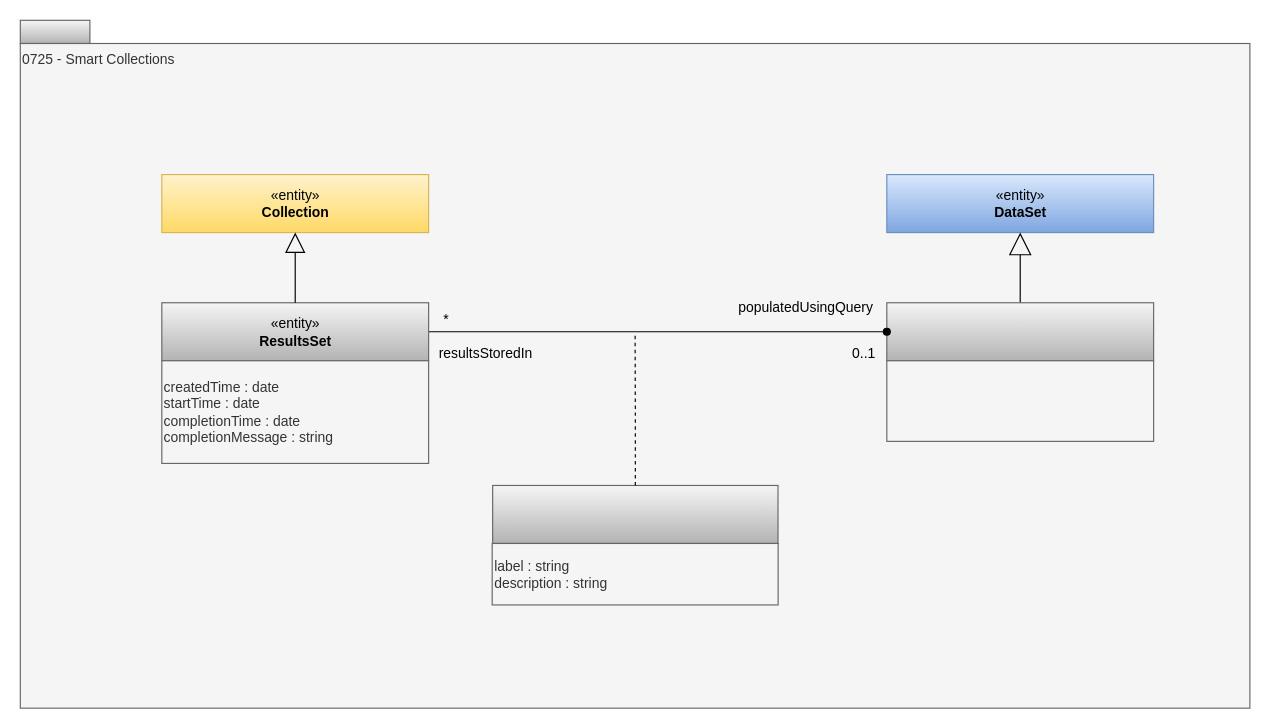
Image size: 1270x728. Some labels were removed from this diagram. Each missing label, with the centre of its shape:
queryURL : string queryRequestBody : string: pixel 1020 400
«entity» SavedQuery: pixel 1020 331
«relationship» SmartQuery: pixel 634 513
